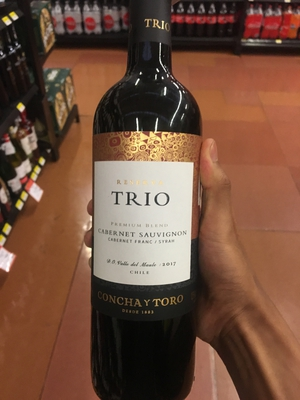trio cabernet sauvignon: (80, 19, 229, 397)
